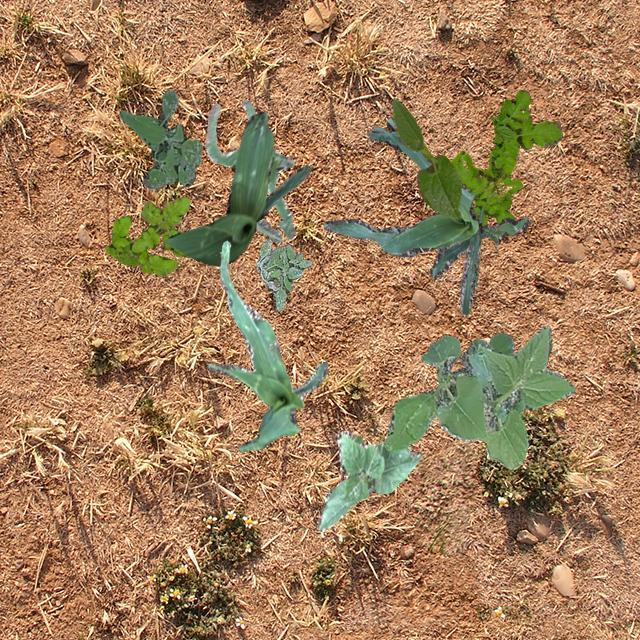crop: (322, 118, 528, 314), (206, 240, 326, 450), (164, 110, 310, 264), (204, 98, 294, 242), (316, 430, 421, 530), (392, 96, 461, 218)
weed: (384, 326, 576, 468), (449, 89, 562, 224), (118, 88, 200, 188), (104, 196, 188, 274), (256, 237, 312, 310), (450, 332, 512, 374)
